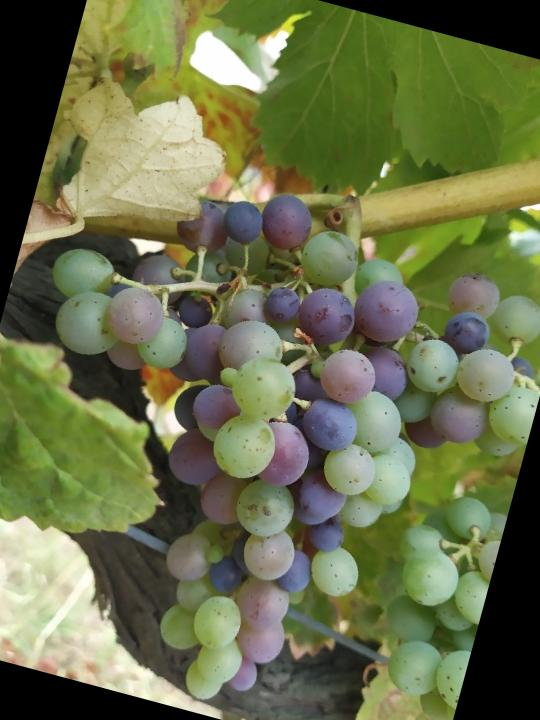grape: (0, 136, 540, 720)
